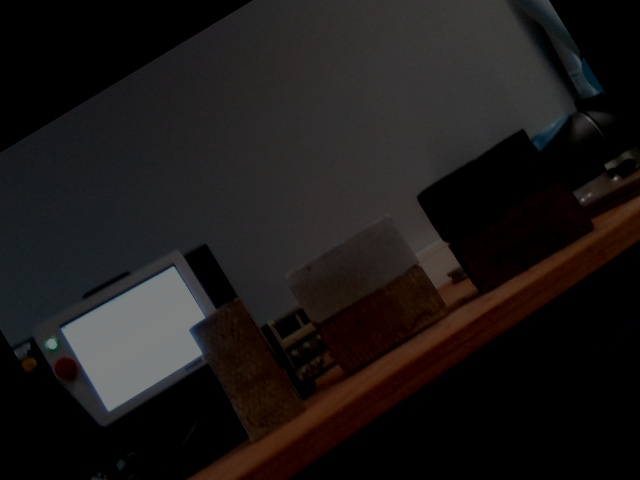brick: (186, 297, 306, 442), (450, 178, 591, 296), (418, 131, 552, 244), (286, 217, 416, 325), (318, 269, 443, 372)
